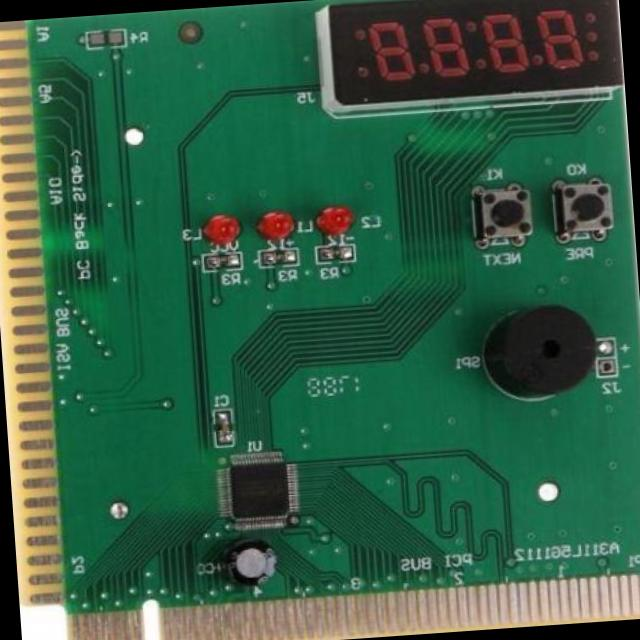LED: (319, 0, 623, 116), (314, 208, 352, 238), (204, 217, 243, 246), (260, 212, 294, 240)
capacitor: (222, 540, 284, 588), (212, 410, 236, 447)
resistor: (222, 452, 296, 524), (204, 252, 240, 272), (262, 250, 296, 266), (318, 247, 350, 263)
